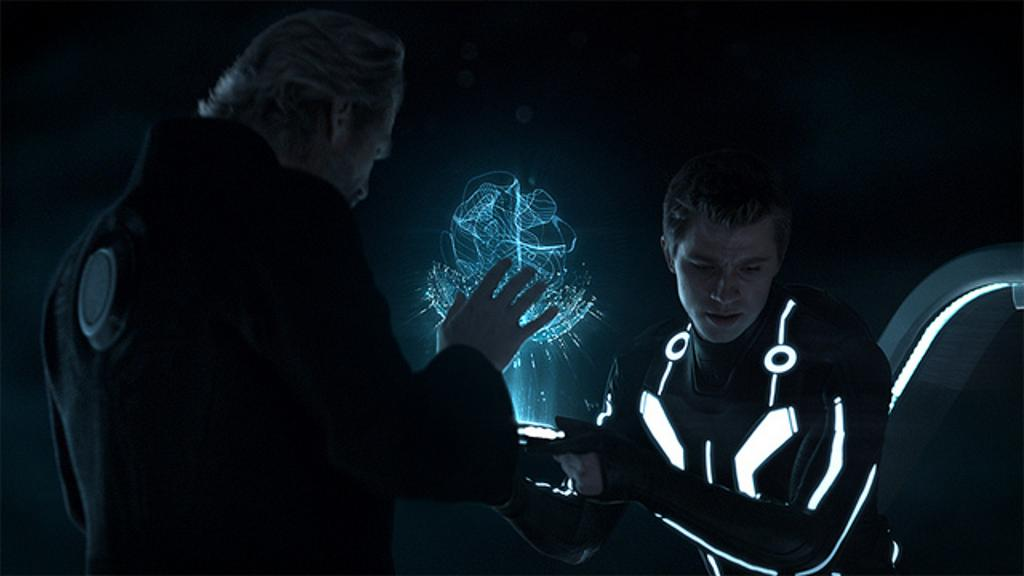face: (304, 82, 402, 232), (680, 214, 776, 344)
